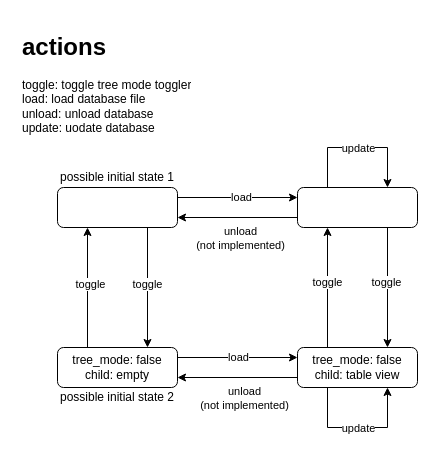
Some shapes in this 435 by 453 pixel diagram are drawn without their labels. Each missing label, with the centre of its shape:
"tree_mode: true child: empty" goes at pixel 117 207.
"tree_mode: true child: tree view" goes at pixel 357 207.
